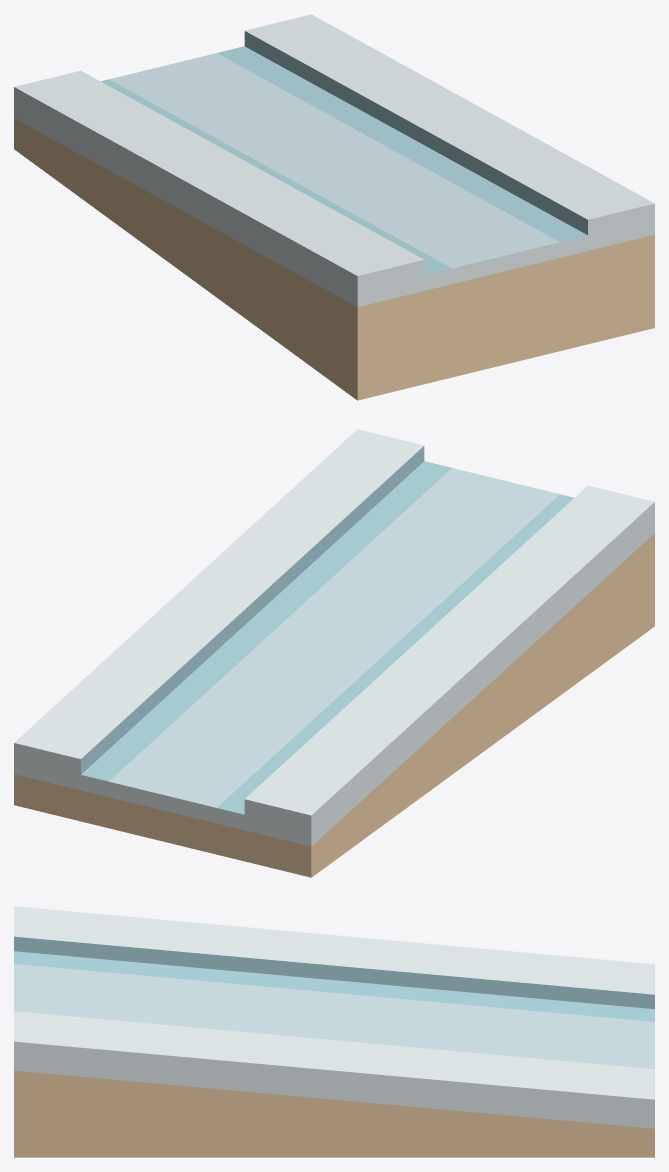
File: snow_tile_straightHillLarge.glb
3 renders of one model, top to bottom at view 1: azimuth 30°, elevation 25°; view 2: azimuth 150°, elevation 25°; view 3: azimuth 270°, elevation 25°, orthographic. The views are drawn at different scales.
Parts seen in each view (by area): view 1: snow_tile_straightHillLarge; view 2: snow_tile_straightHillLarge; view 3: snow_tile_straightHillLarge.
Part boxes in pixels (<box>): snow_tile_straightHillLarge: <box>14,14,654,400</box>; snow_tile_straightHillLarge: <box>14,429,654,877</box>; snow_tile_straightHillLarge: <box>14,906,654,1157</box>.
Size of the model in its own units: 1 by 0.4 by 2.
